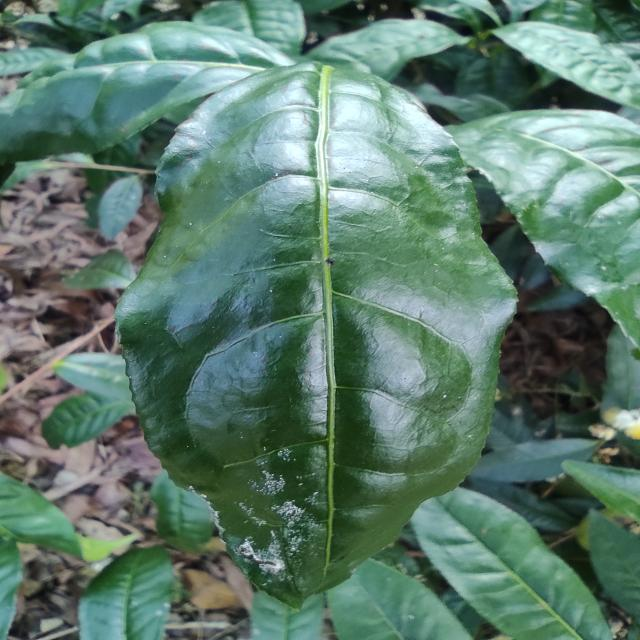Category D(7+ days, Not for Tea): (117, 53, 507, 612)
